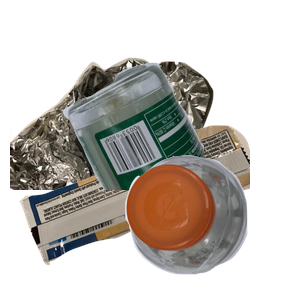glass: (60, 60, 300, 240)
metal: (10, 47, 216, 227)
plastic: (123, 152, 300, 300)
trash: (17, 123, 257, 300)
